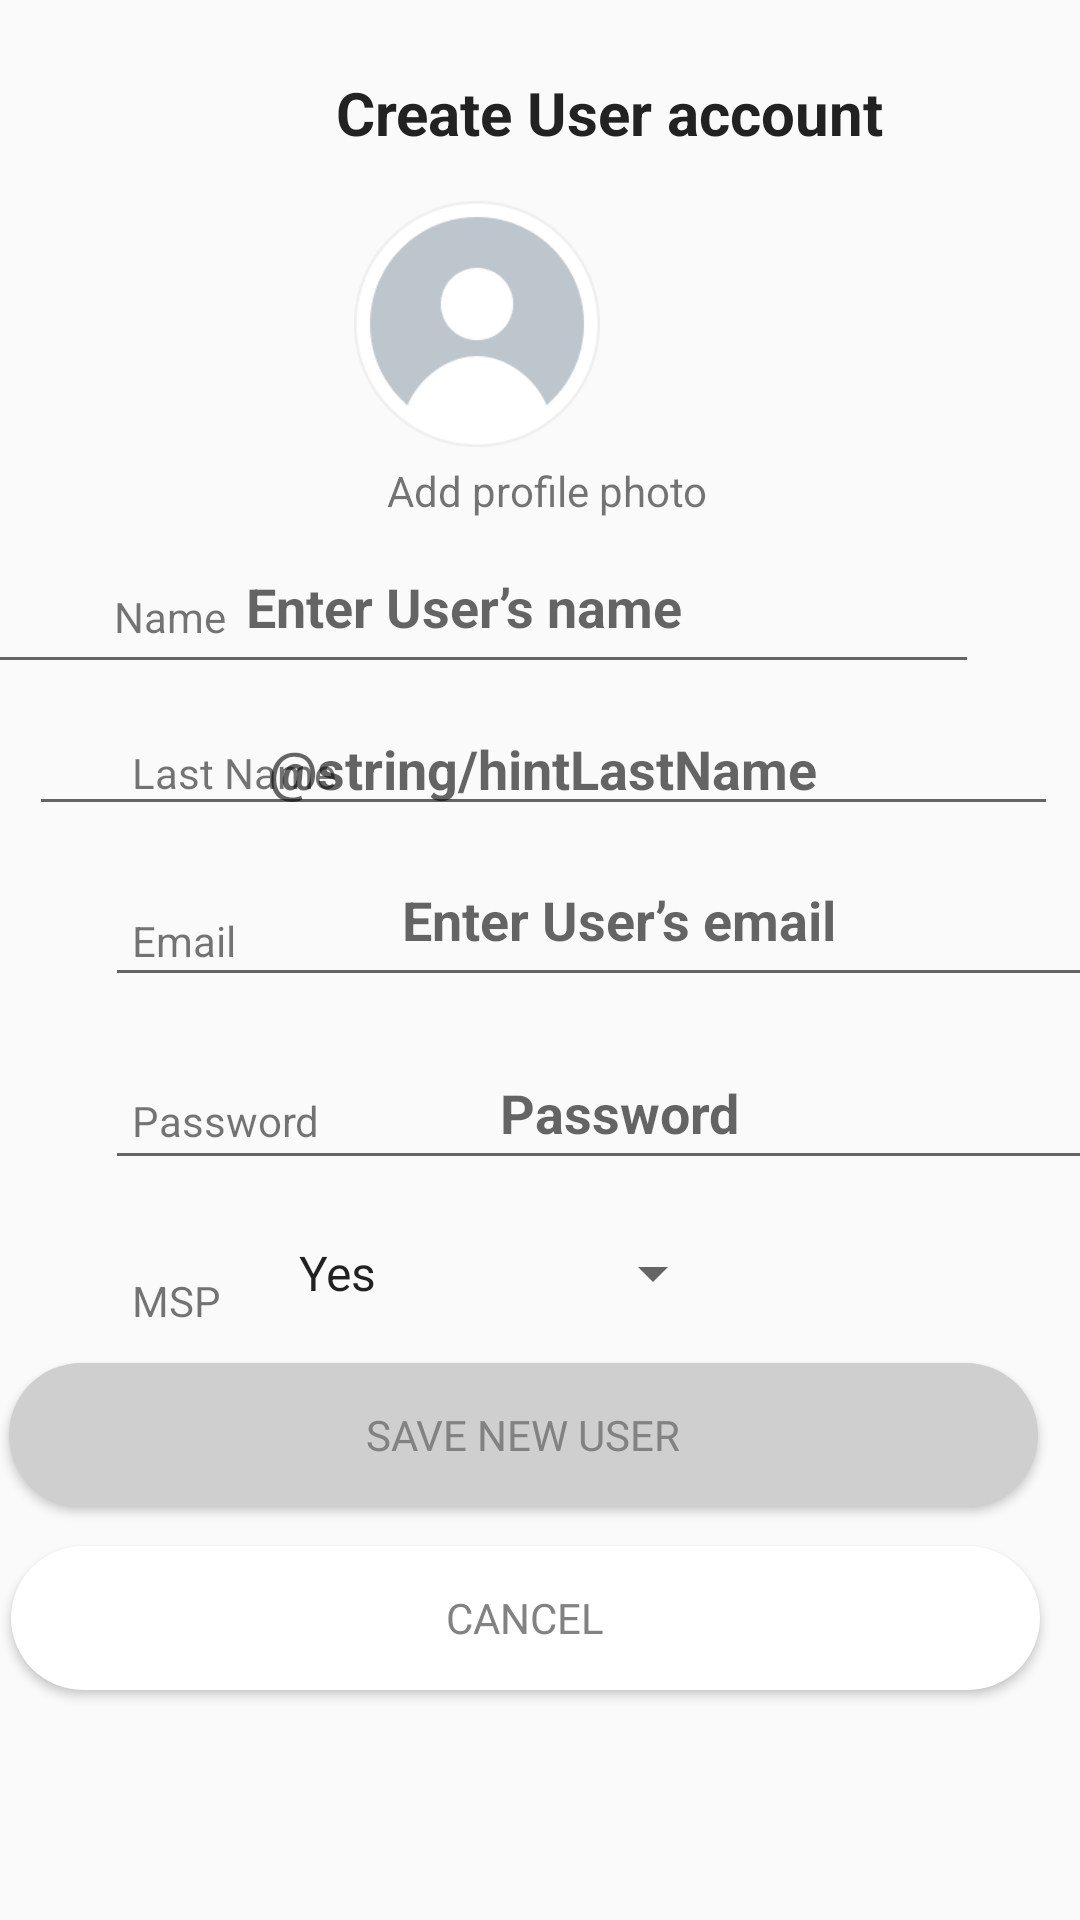

Point at icon controls on the screen. Image size 1080w x 1920h, points as point (x, y).
Avatar Icon: point (477, 311)
